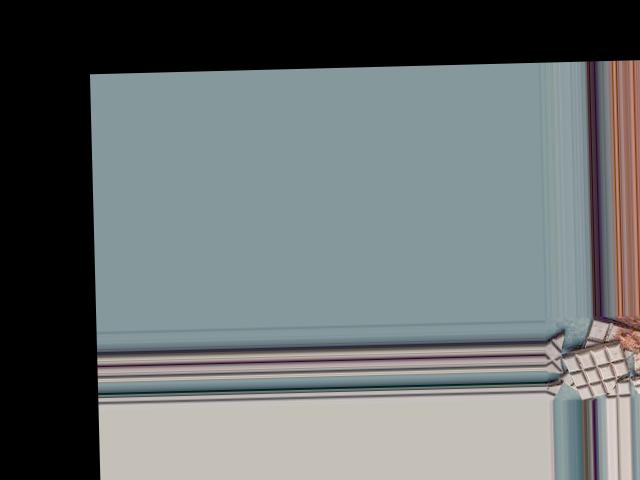chocolate: (560, 342, 628, 400)
